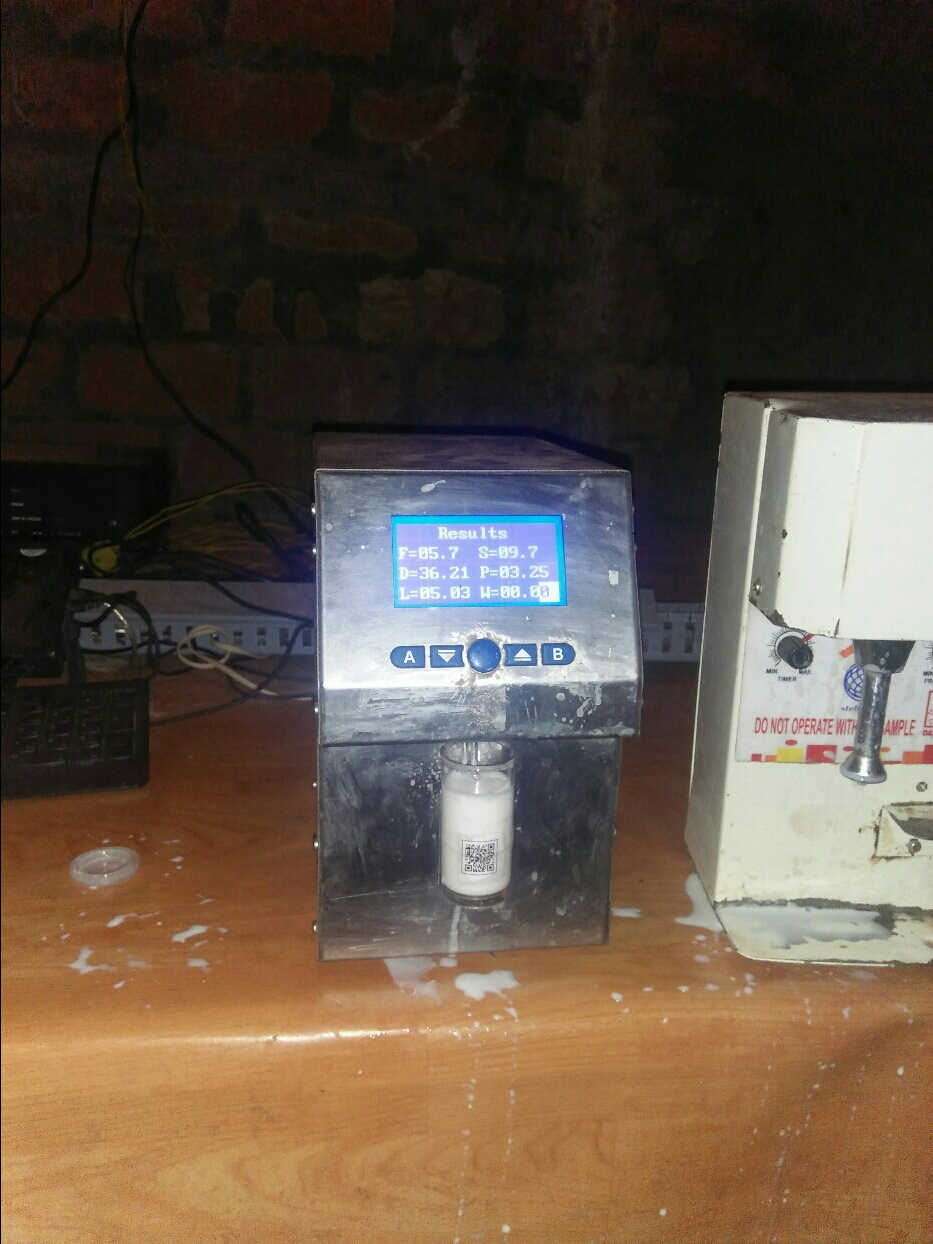lcd: (386, 508, 588, 614)
qr: (450, 835, 514, 882)
